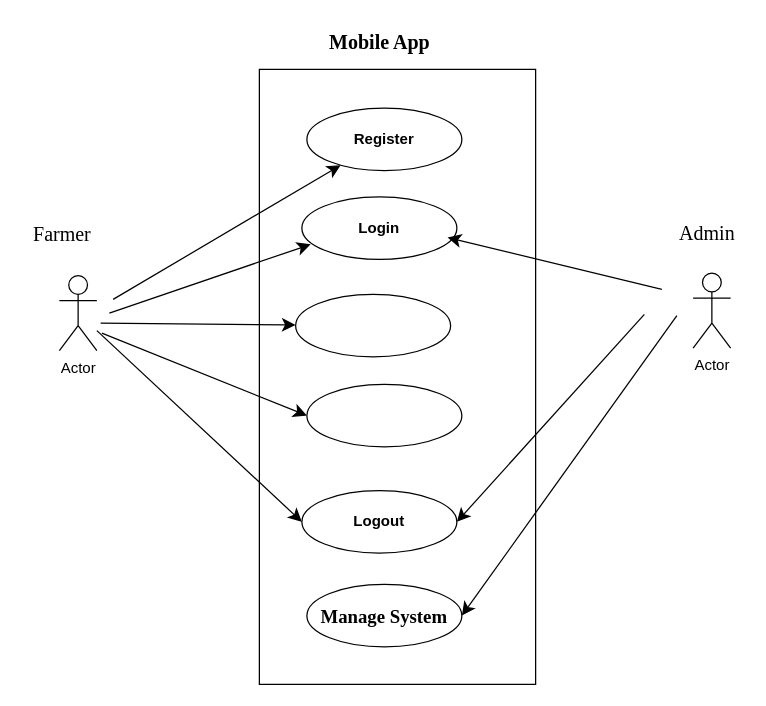
This 766x706 diagram has some shape labels left out. Here are the shapes that lost their labels. From the top down, the centre of each, then its label:
At (x=372, y=325): "View soil results".
At (x=384, y=415): "View soil recommendation".
